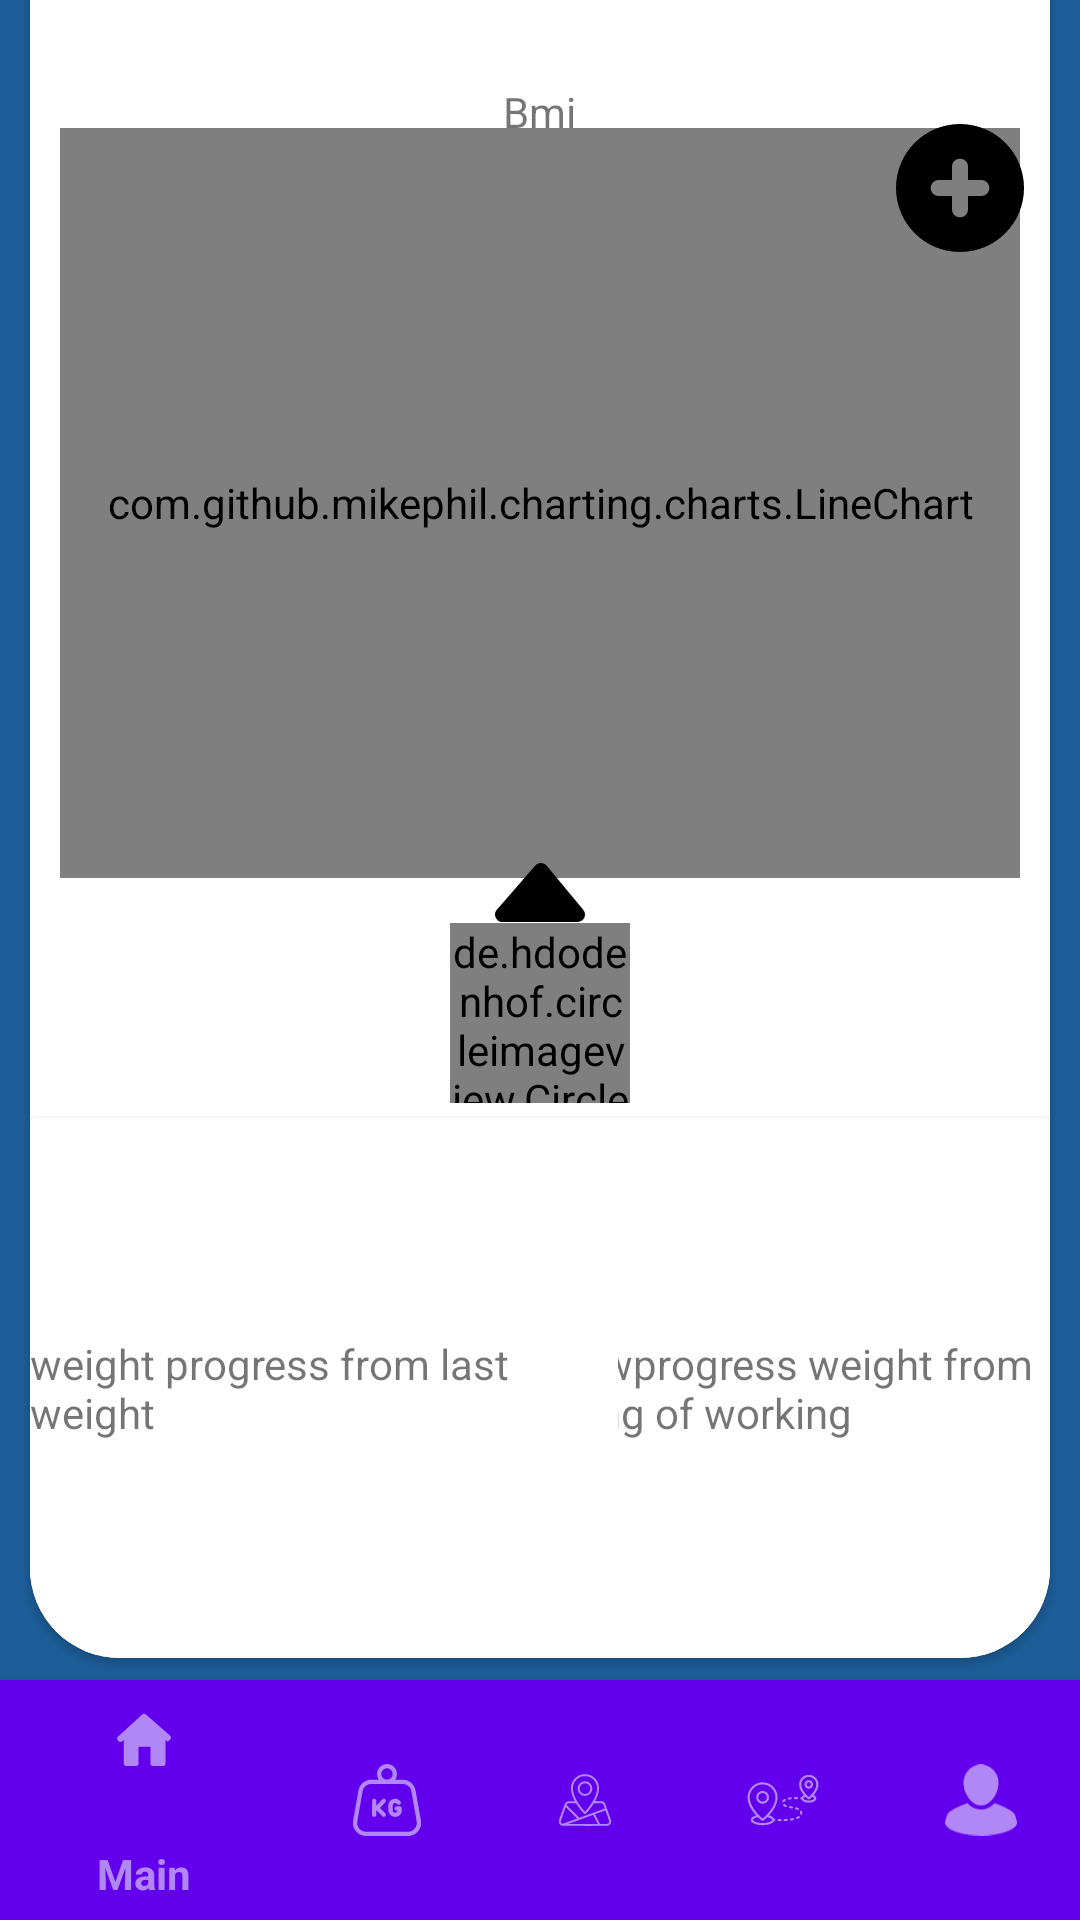

Where to tap for icons on this 1080x1920 app screen, as [x,y]:
arrow up: [540,892]
plus: [960,188]
